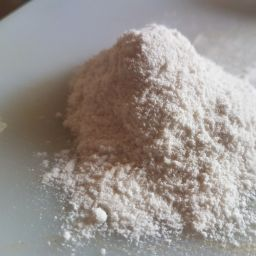Plain flour: (92, 57, 256, 244), (102, 66, 256, 234), (34, 130, 256, 244), (66, 20, 243, 160)
